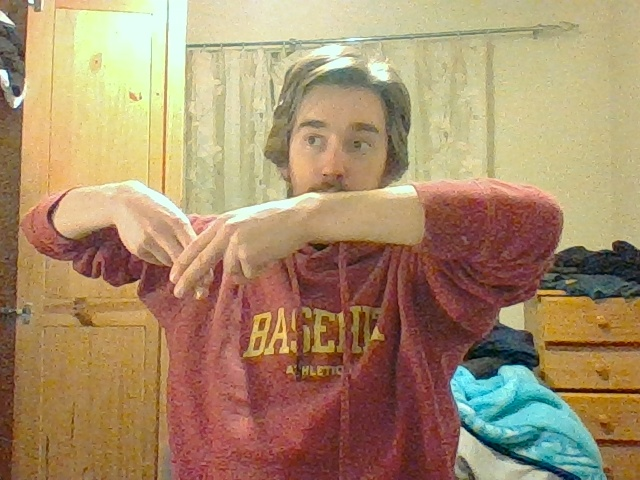father: (159, 194, 252, 299)
